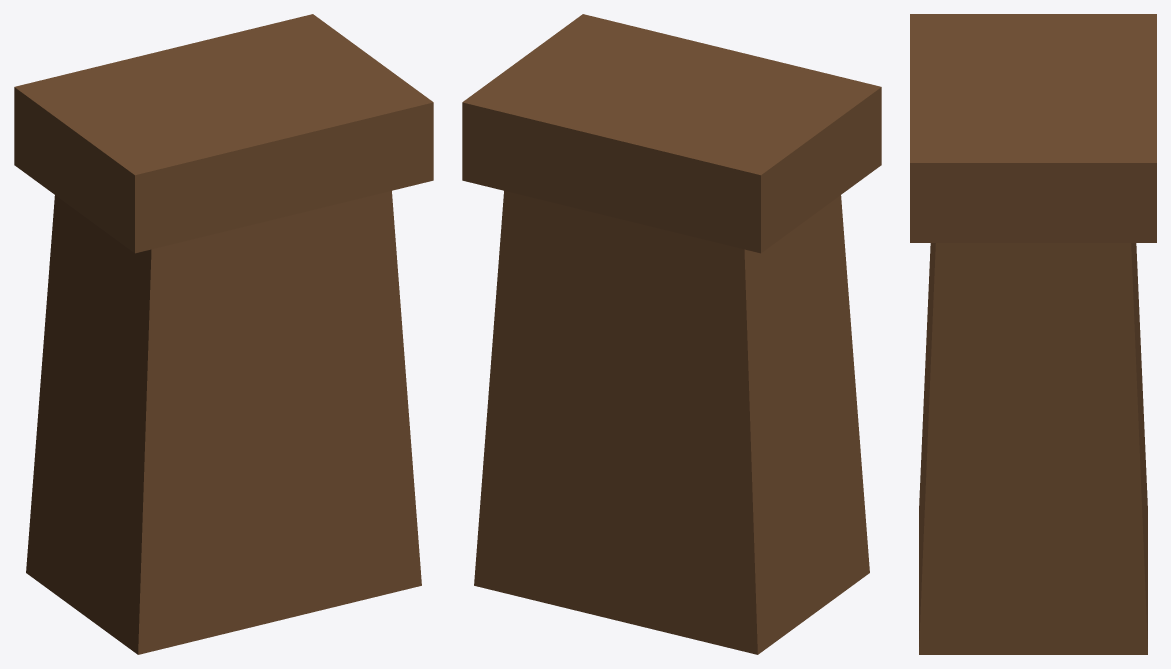
File: pack.fbx
3 renders of one model, left to right at view 1: azimuth 30°, elevation 25°; view 2: azimuth 150°, elevation 25°; view 3: azimuth 270°, elevation 25°, orthographic. The views are drawn at different scales.
Visible parts, largest first — view 1: Pack; view 2: Pack; view 3: Pack.
Boxes of the visible parts, x1,y1,x2,y2 form: Pack: (14, 14, 433, 654); Pack: (462, 14, 881, 654); Pack: (910, 14, 1156, 654).
Bounding box in the file's own units: 0.4 × 0.62 × 0.28.
